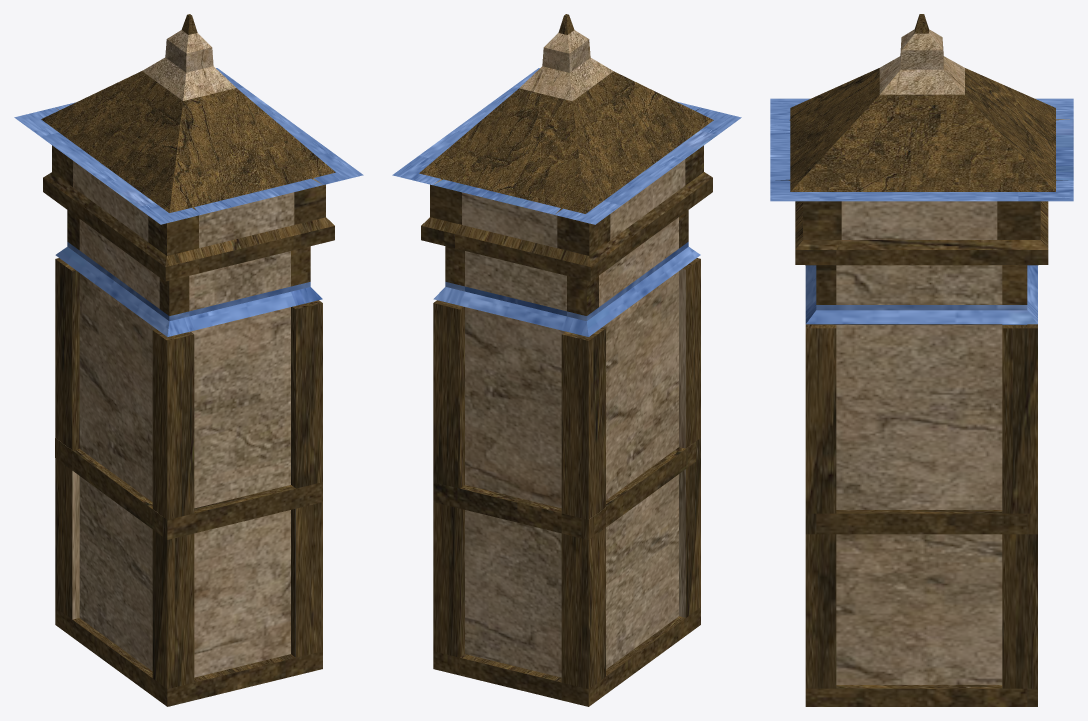
Rendered from Yamato_wall_tower.fbx.
3 renders of one model, left to right at view 1: azimuth 30°, elevation 25°; view 2: azimuth 150°, elevation 25°; view 3: azimuth 270°, elevation 25°, orthographic. The views are drawn at different scales.
Parts seen in each view (by area): view 1: Cube, Cube.001; view 2: Cube, Cube.001; view 3: Cube, Cube.001.
Part boxes in pixels (x1,y1,x2,y2): Cube: [14, 68, 363, 706]; Cube.001: [41, 14, 335, 212]; Cube: [392, 68, 741, 706]; Cube.001: [419, 14, 713, 213]; Cube: [770, 98, 1073, 706]; Cube.001: [788, 14, 1056, 191].
Size of the model in its own units: 288 by 854 by 359.
Materials: 2 (2 with a texture image).
